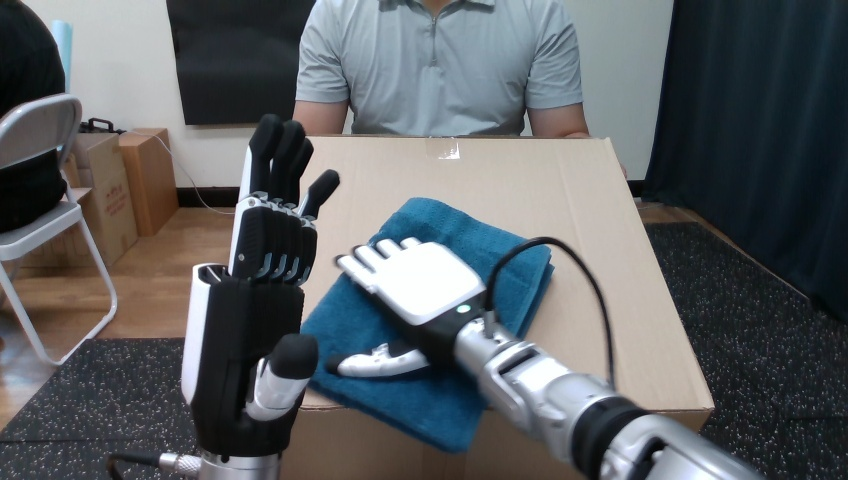left robot hand: (330, 238, 759, 479), (109, 114, 339, 479)
